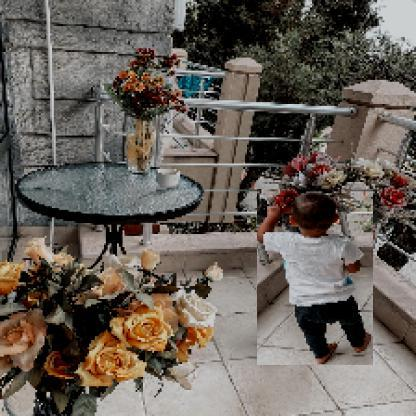child: (258, 190, 375, 367)
